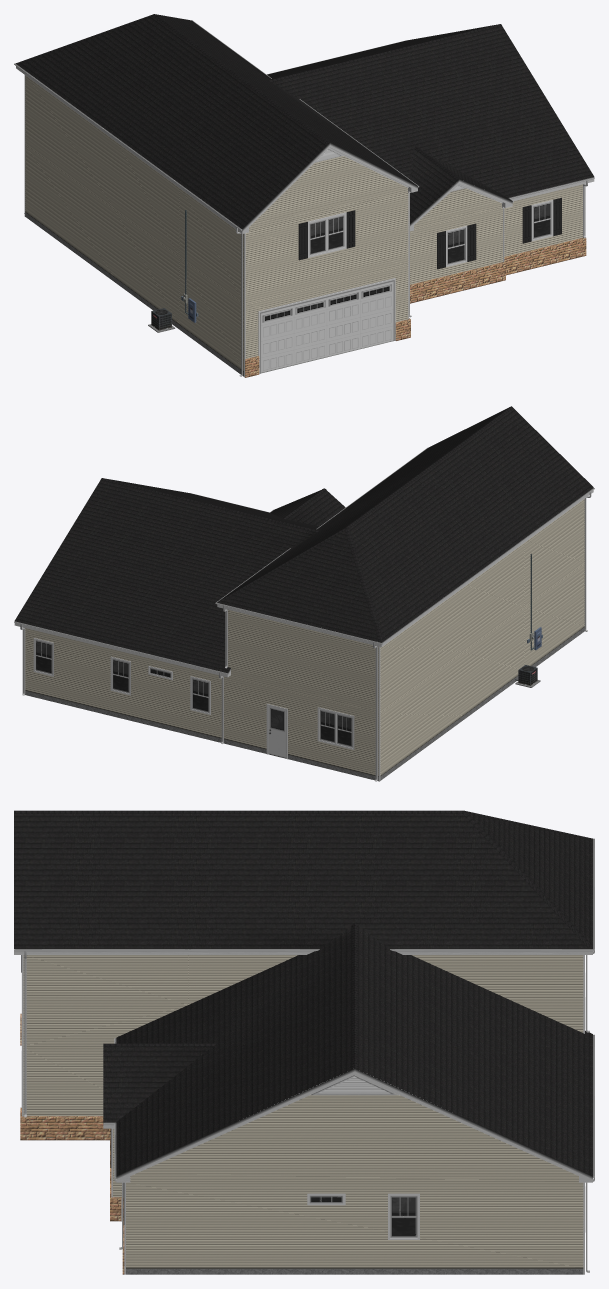
The model's file is house25_mirror2.fbx.
The picture shows the model from 3 angles, top to bottom: view 1: azimuth 30°, elevation 25°; view 2: azimuth 150°, elevation 25°; view 3: azimuth 270°, elevation 25°; orthographic projection. The views are drawn at different scales.
Parts seen in each view (by area): view 1: house25_mirror2_LOD0; view 2: house25_mirror2_LOD0; view 3: house25_mirror2_LOD0.
Part boxes in pixels (box(x1,y1,x2,y2)): house25_mirror2_LOD0: box(14, 14, 594, 377); house25_mirror2_LOD0: box(14, 406, 594, 781); house25_mirror2_LOD0: box(14, 810, 594, 1274).
Size of what is drawn, in the model's own units: 4.69 by 2.4 by 4.54.
